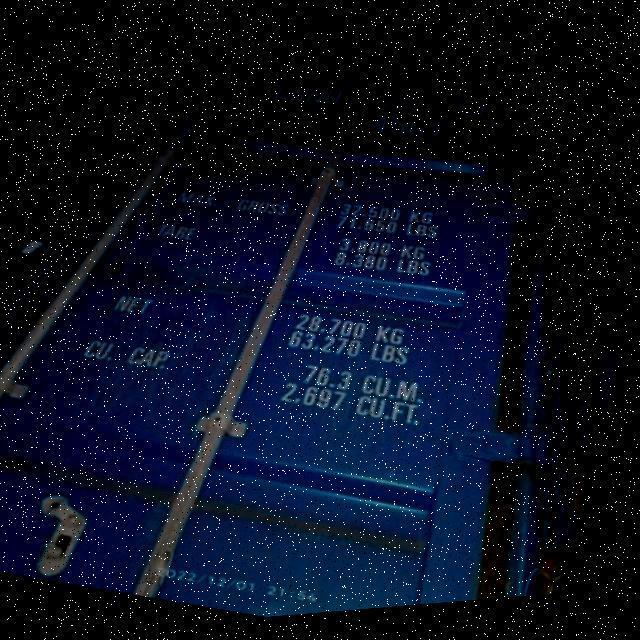container_number_h: (221, 22, 574, 219)
